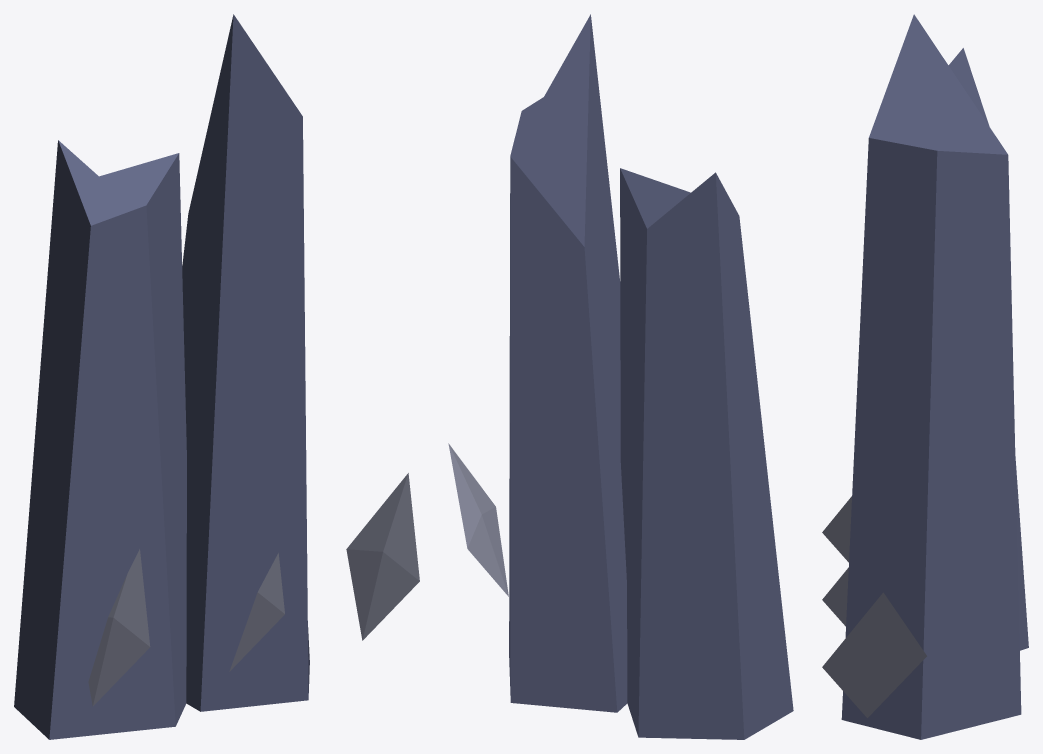
Rendered from map-boundaries-v5__highland_09.glb.
The picture shows the model from 3 angles, left to right: view 1: azimuth 30°, elevation 25°; view 2: azimuth 150°, elevation 25°; view 3: azimuth 270°, elevation 25°; orthographic projection. The views are drawn at different scales.
Visible parts, largest first — view 1: highland_09; view 2: highland_09; view 3: highland_09.
Part boxes in pixels (x1,y1,x2,y2): highland_09: (14, 14, 419, 739); highland_09: (448, 14, 793, 739); highland_09: (822, 14, 1028, 739).
Bounding box in the file's own units: 1.32 × 2.37 × 0.6491.
